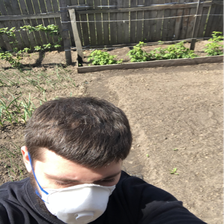mask: (28, 143, 123, 224)
